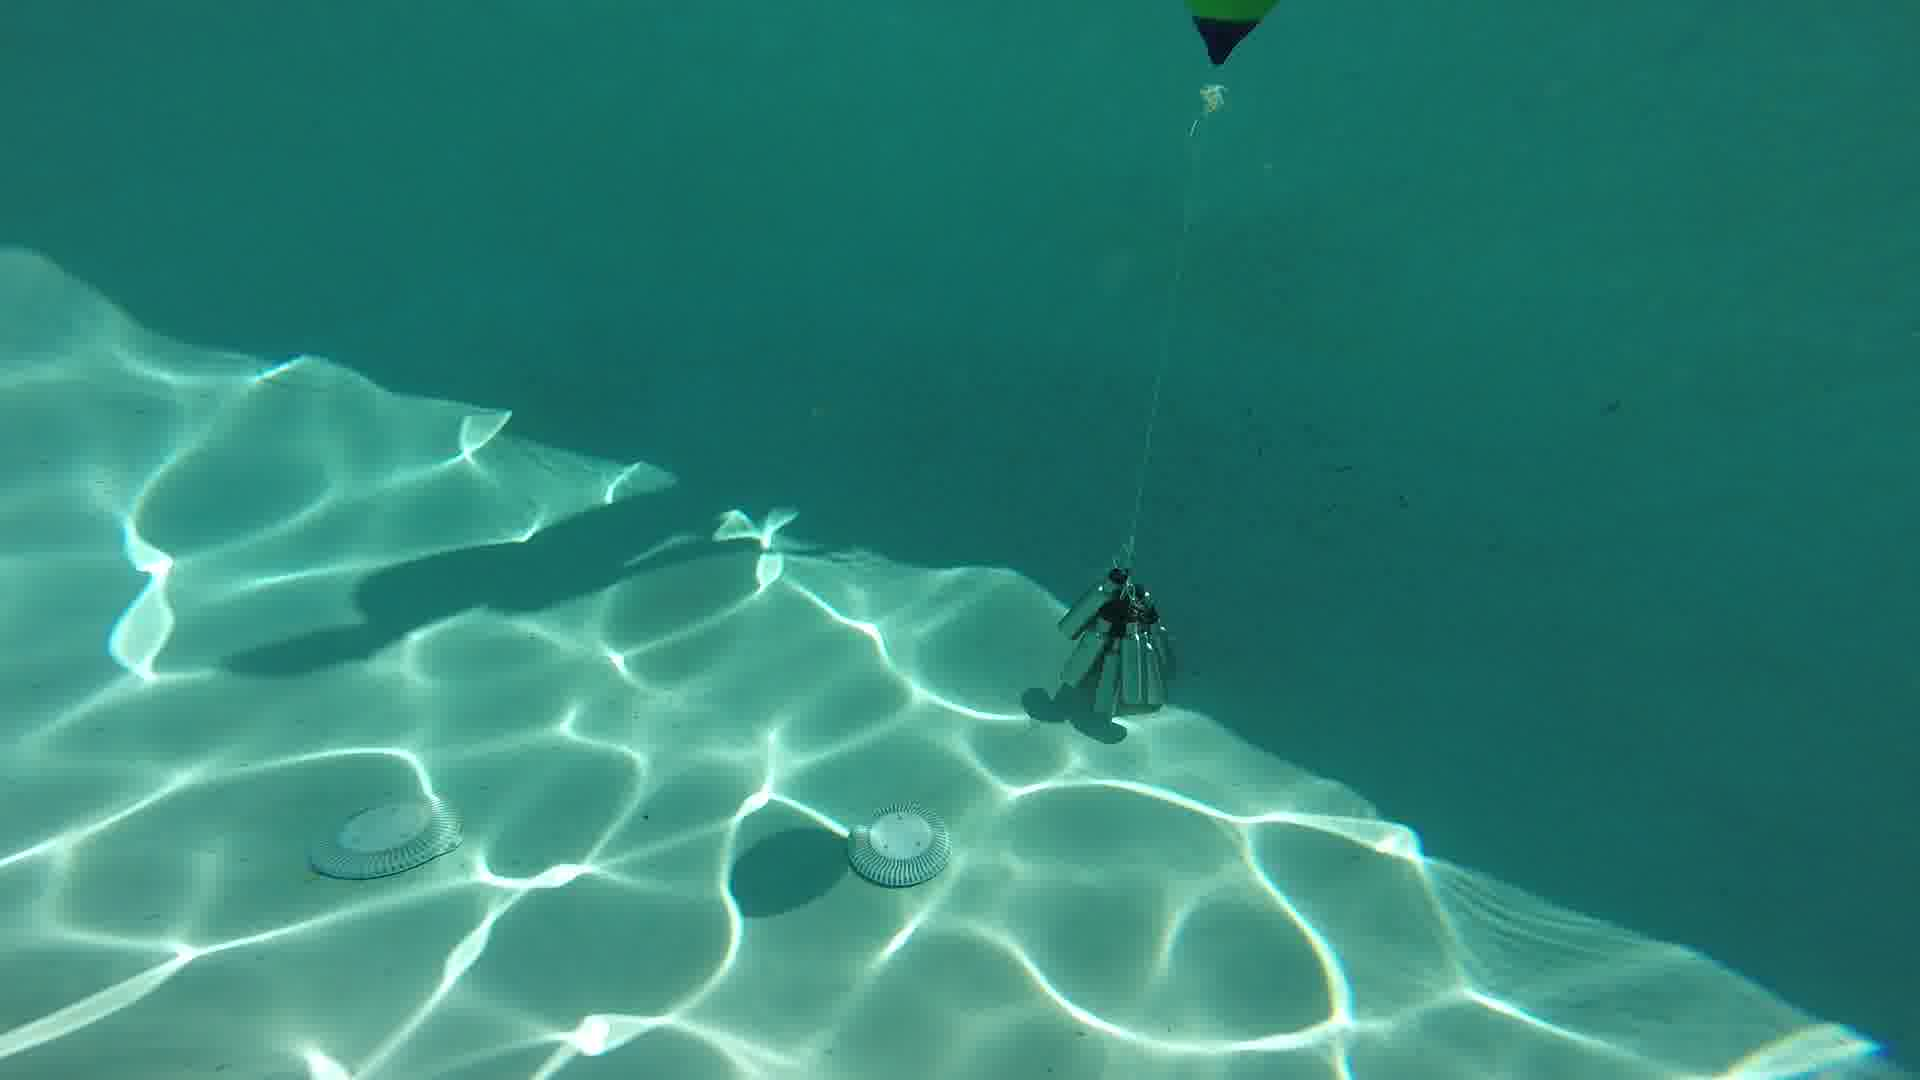yellow_buoy: (1182, 1, 1283, 120)
